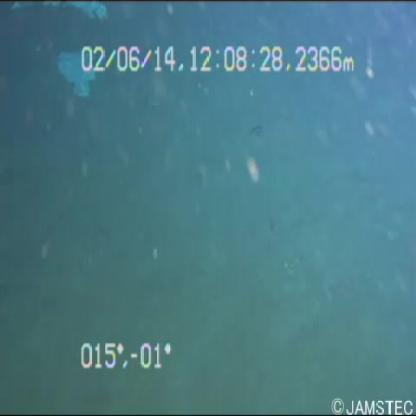Rác: (48, 40, 112, 111)
